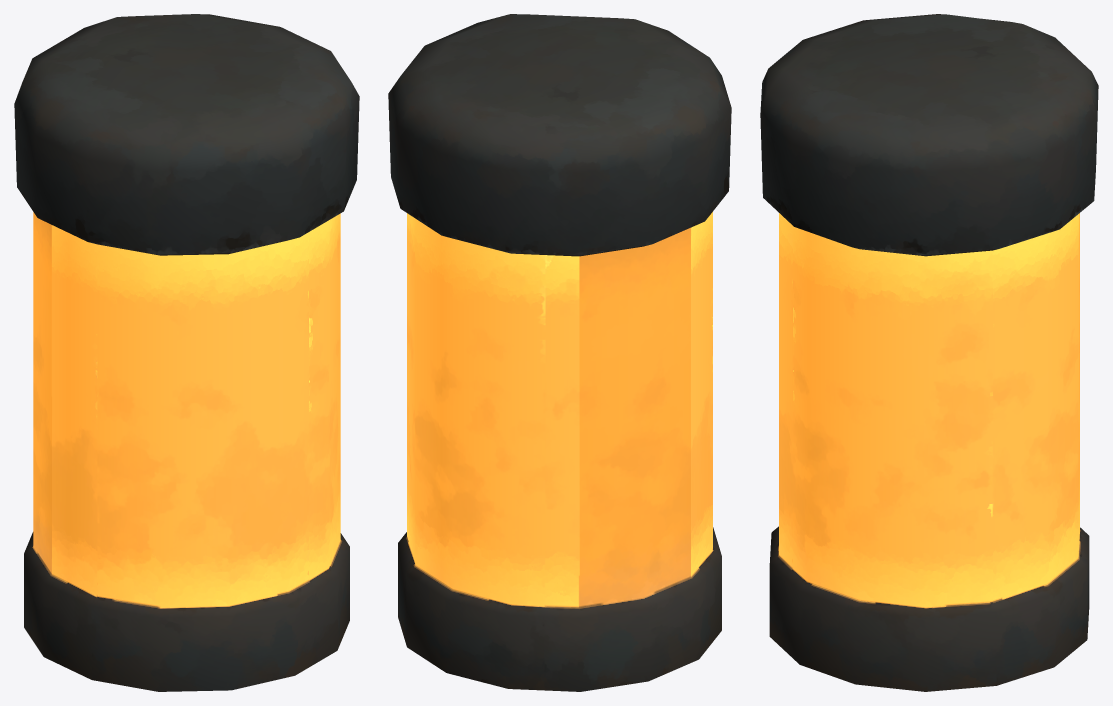
File: Body1.gltf
The picture shows the model from 3 angles, left to right: view 1: azimuth 30°, elevation 25°; view 2: azimuth 150°, elevation 25°; view 3: azimuth 270°, elevation 25°; orthographic projection.
Parts seen in each view (by area): view 1: FlaskV1; view 2: FlaskV1; view 3: FlaskV1.
Boxes of the visible parts, <box> form: FlaskV1: <box>14,14,359,691</box>; FlaskV1: <box>388,14,731,691</box>; FlaskV1: <box>760,14,1098,691</box>.
Size of the model in its own units: 6.42 by 11.47 by 6.29.
Materials: 1 (1 with a texture image).
